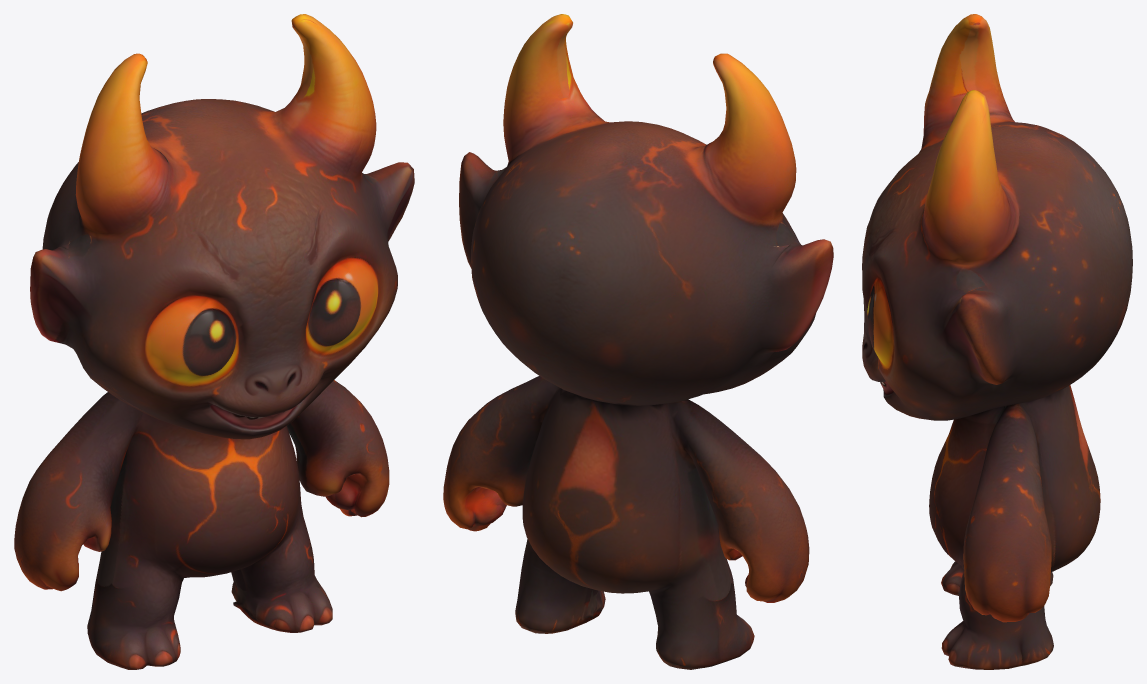
The model's file is third.glb.
3 renders of one model, left to right at view 1: azimuth 30°, elevation 25°; view 2: azimuth 150°, elevation 25°; view 3: azimuth 270°, elevation 25°, orthographic. The views are drawn at different scales.
Size of the model in its own units: 1.32 by 2 by 0.8638.
1 material, 1 textured.
